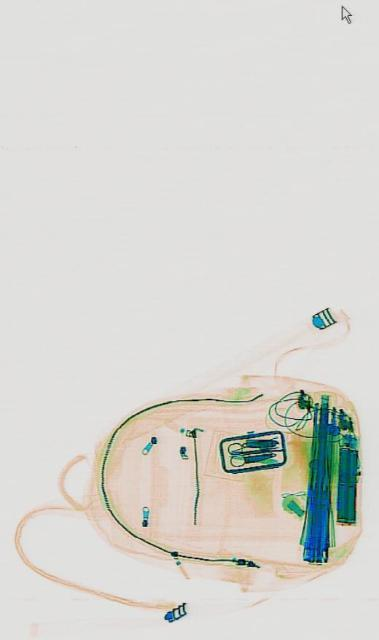Scissors: (226, 437, 264, 468)
